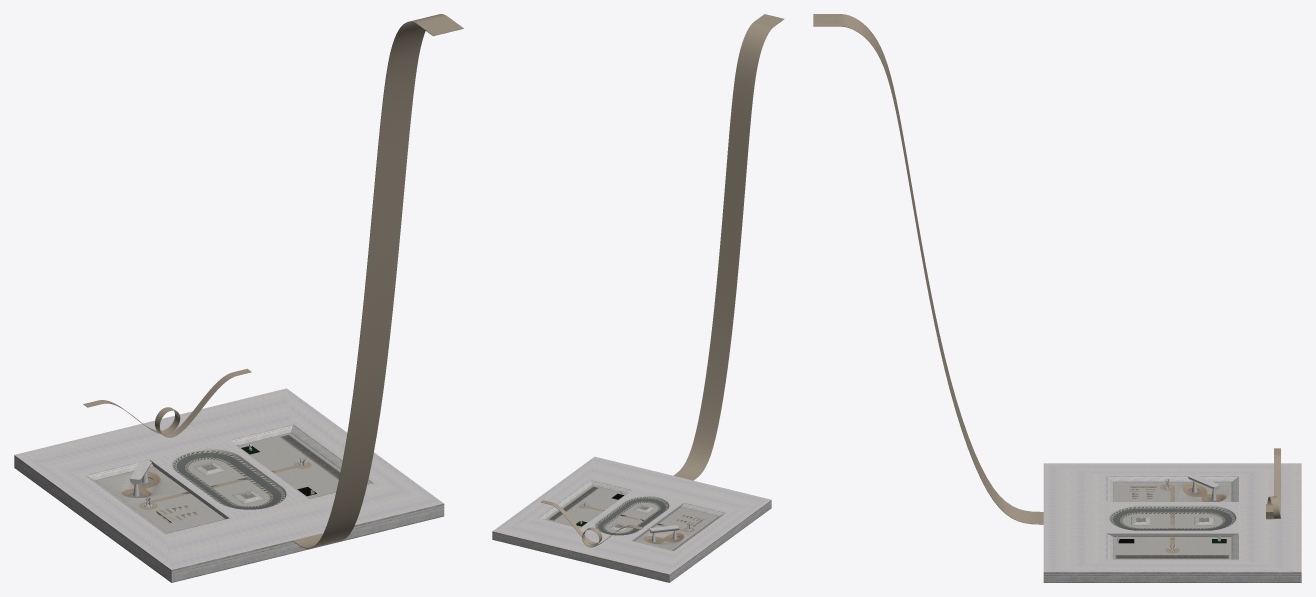
Rendered from world.glb.
The picture shows the model from 3 angles, left to right: view 1: azimuth 30°, elevation 25°; view 2: azimuth 150°, elevation 25°; view 3: azimuth 270°, elevation 25°; orthographic projection. The views are drawn at different scales.
Visible parts, largest first — view 1: Plane, Cube.808, BezierCircle, BezierCircle.021; view 2: Plane, Cube.808, BezierCircle, BezierCircle.021; view 3: Plane, Cube.808, BezierCircle, BezierCircle.021.
Boxes of the visible parts, bbox=[...] form: Plane: bbox=[14, 388, 444, 582]; Cube.808: bbox=[293, 14, 463, 548]; BezierCircle: bbox=[96, 466, 186, 504]; BezierCircle.021: bbox=[83, 368, 251, 437]; Plane: bbox=[492, 456, 771, 582]; Cube.808: bbox=[673, 14, 784, 480]; BezierCircle: bbox=[635, 525, 693, 550]; BezierCircle.021: bbox=[540, 500, 643, 547]; Plane: bbox=[1043, 463, 1301, 582]; Cube.808: bbox=[813, 14, 1043, 524]; BezierCircle: bbox=[1176, 482, 1231, 501]; BezierCircle.021: bbox=[1266, 448, 1280, 519].
Size of what is drawn, in the model's own units: 462 by 1006 by 875.
10 materials, 9 textured.
